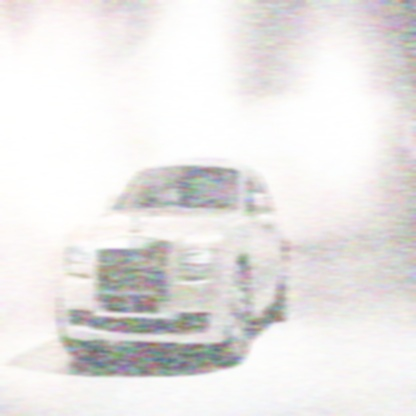Vehicle: (58, 155, 290, 364)
